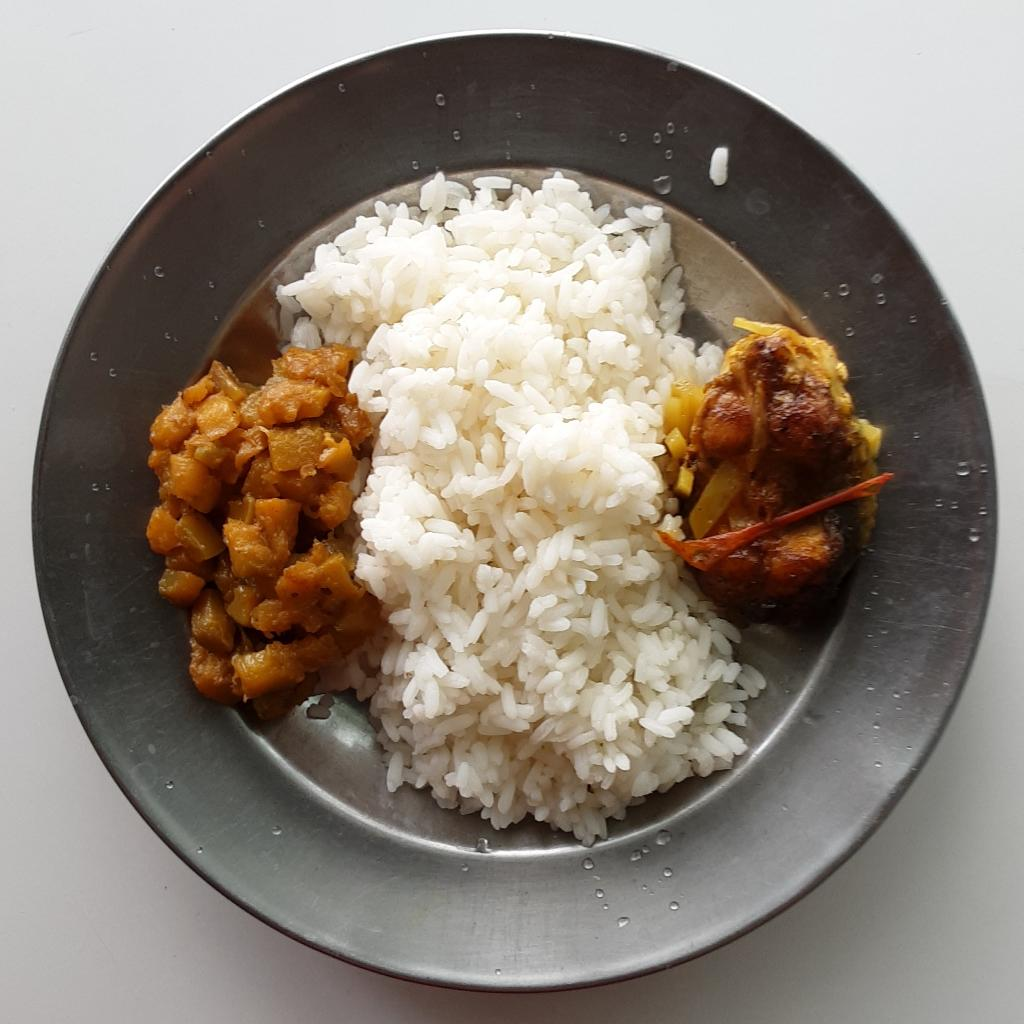fish: (668, 335, 879, 618)
kumra-vaji: (144, 346, 379, 720)
potato: (664, 319, 850, 531)
rice: (280, 169, 765, 843)
tomato: (680, 476, 877, 571)
